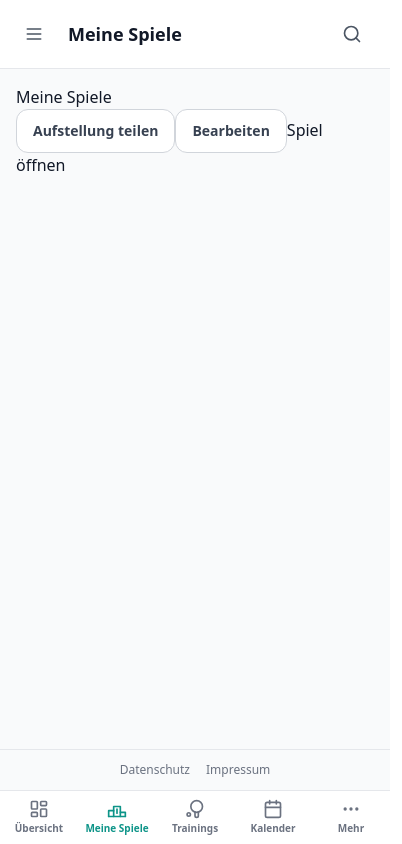
Scenario: Zurückwischen schließt zuerst den Dialog › das Menü am Telefon schließt beim Zurückwischen
Click the button named "Menü öffnen".
click(34, 34)  # box x1=12 y1=12 x2=56 y2=56
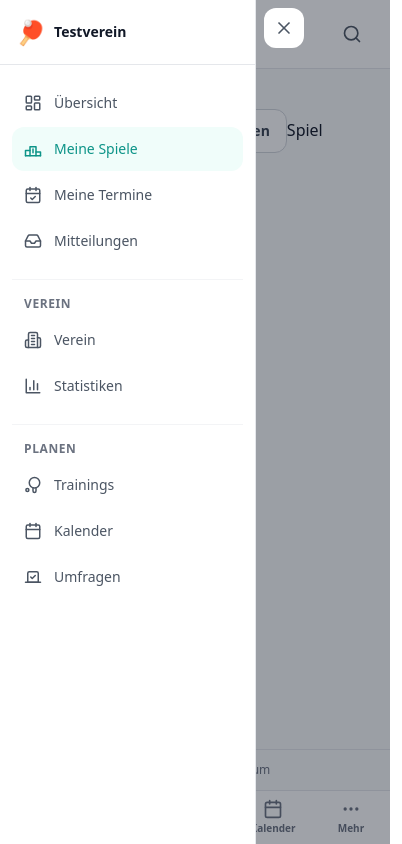
Result: the button named "Menü schließen" is shown at x1=264 y1=8 x2=304 y2=48
